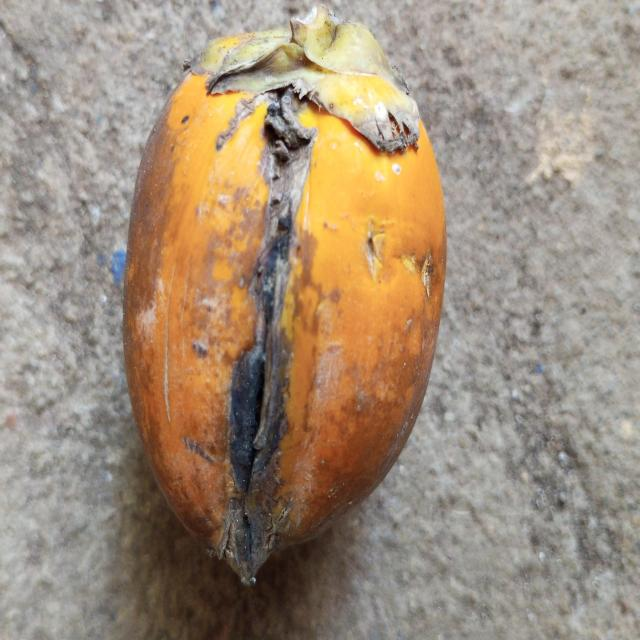damaged: (124, 5, 446, 585)
